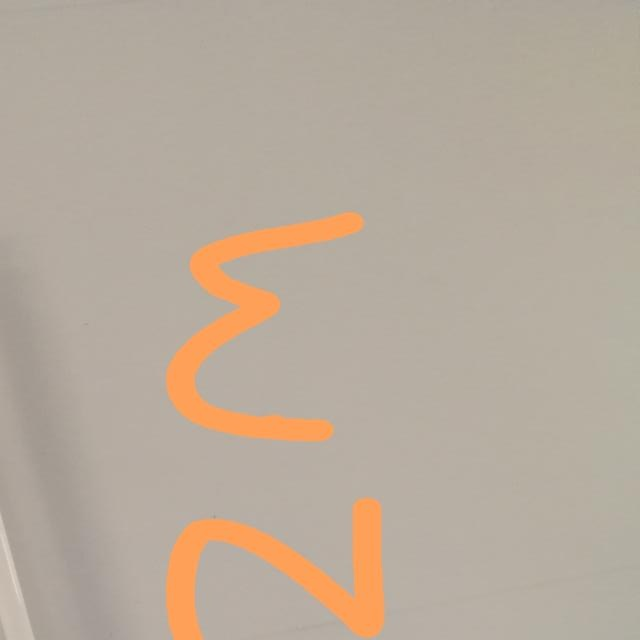fluorescent tube: (0, 235, 201, 640)
